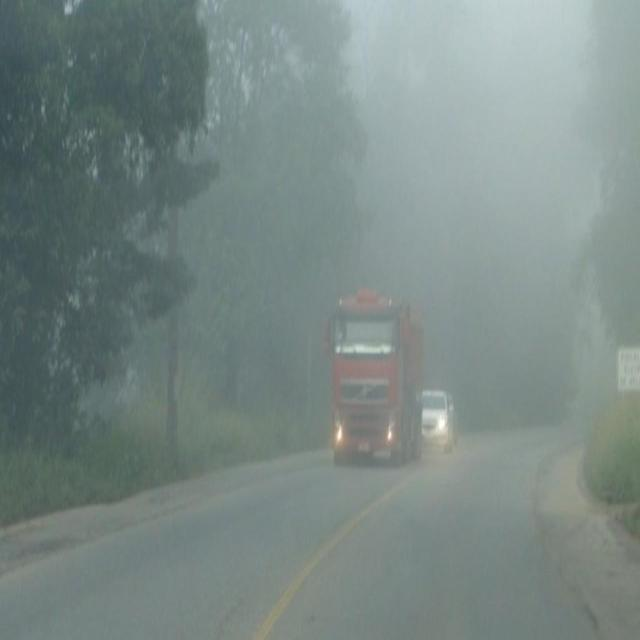Car: (422, 389, 458, 453)
Truck: (329, 294, 422, 467)
